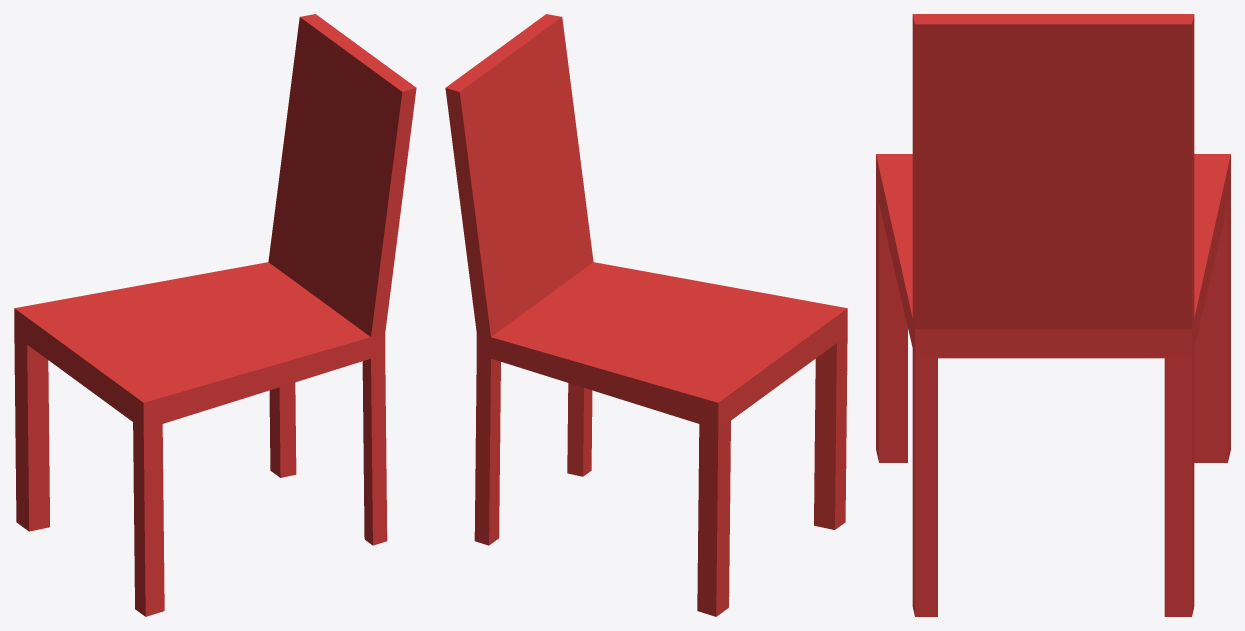
The model's file is chair-model.glb.
The picture shows the model from 3 angles, left to right: view 1: azimuth 30°, elevation 25°; view 2: azimuth 150°, elevation 25°; view 3: azimuth 270°, elevation 25°; orthographic projection. The views are drawn at different scales.
Visible parts, largest first — view 1: Cube; view 2: Cube; view 3: Cube.
Part boxes in pixels (<box>): Cube: <box>14,14,416,616</box>; Cube: <box>445,14,847,616</box>; Cube: <box>876,14,1230,616</box>.
Bounding box in the file's own units: 2.56 × 3.83 × 2.
